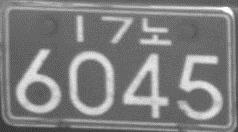0: (67, 49, 115, 117)
1: (67, 14, 92, 42)
4: (122, 52, 169, 119)
5: (175, 54, 223, 121)
6: (14, 48, 61, 113)
7: (101, 14, 134, 45)
노: (138, 16, 172, 46)
